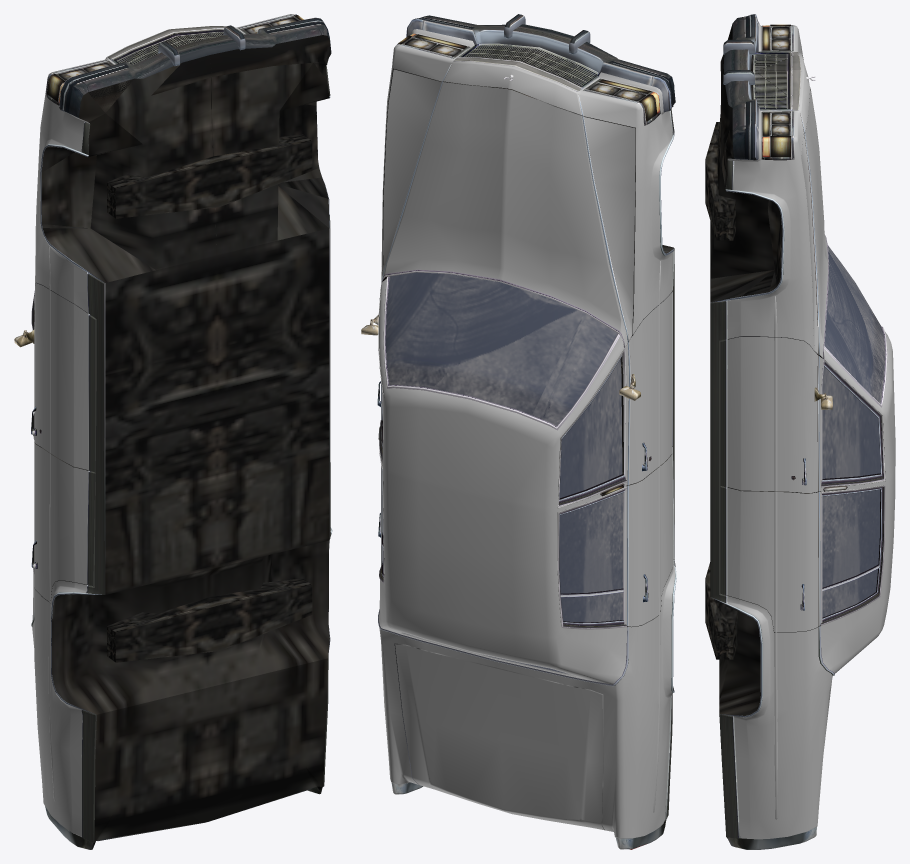
The model's file is Grandstar sedan.FBX.
3 views of the same model, side by side, from view 1: azimuth 30°, elevation 25°; view 2: azimuth 150°, elevation 25°; view 3: azimuth 270°, elevation 25° (orthographic). The views are drawn at different scales.
Parts seen in each view (by area): view 1: Misc, EngBay, GrandstarSedan_P, Doorpf_P, Doorpr_P, pfmisc, prmisc; view 2: Vinyl_EC, Hood_P, GrandstarSedan_P, Trunk_P, Glassfront, Misc, Doorpf_P, Doorpr_P, glasspr, glasspf, Hoodmisc, pfmisc (+2 smaller); view 3: Misc, GrandstarSedan_P, Doordf_P, Doordr_P, Vinyl_EC, Glassfront, glassdr, glassdf, Hood_P, dfmisc, EngBay, drmisc (+3 smaller).
Part boxes in pixels (left/top/right/bottom): Misc: left=31, top=14, right=332, bottom=849; EngBay: left=41, top=17, right=330, bottom=282; GrandstarSedan_P: left=32, top=14, right=331, bottom=836; Doorpf_P: left=34, top=283, right=88, bottom=470; Doorpr_P: left=34, top=442, right=89, bottom=602; pfmisc: left=14, top=296, right=96, bottom=472; prmisc: left=31, top=442, right=95, bottom=600; Vinyl_EC: left=378, top=279, right=627, bottom=684; Hood_P: left=383, top=69, right=635, bottom=347; GrandstarSedan_P: left=379, top=29, right=675, bottom=838; Trunk_P: left=395, top=644, right=603, bottom=829; Glassfront: left=385, top=272, right=617, bottom=426; Misc: left=378, top=14, right=676, bottom=849; Doorpf_P: left=625, top=292, right=672, bottom=485; Doorpr_P: left=625, top=454, right=673, bottom=626; glasspr: left=559, top=493, right=623, bottom=593; glasspf: left=559, top=359, right=622, bottom=498; Hoodmisc: left=380, top=69, right=635, bottom=347; pfmisc: left=559, top=291, right=672, bottom=503; Misc: left=705, top=14, right=887, bottom=849; GrandstarSedan_P: left=722, top=23, right=832, bottom=839; Doordf_P: left=727, top=337, right=823, bottom=492; Doordr_P: left=726, top=487, right=821, bottom=632; Vinyl_EC: left=820, top=331, right=895, bottom=673; Glassfront: left=824, top=246, right=885, bottom=403; glassdr: left=822, top=489, right=880, bottom=587; glassdf: left=822, top=367, right=880, bottom=478; Hood_P: left=801, top=49, right=828, bottom=357; dfmisc: left=720, top=339, right=883, bottom=491; EngBay: left=710, top=24, right=822, bottom=358; drmisc: left=720, top=486, right=883, bottom=625.
Size of the model in its own units: 205 by 554 by 129.
